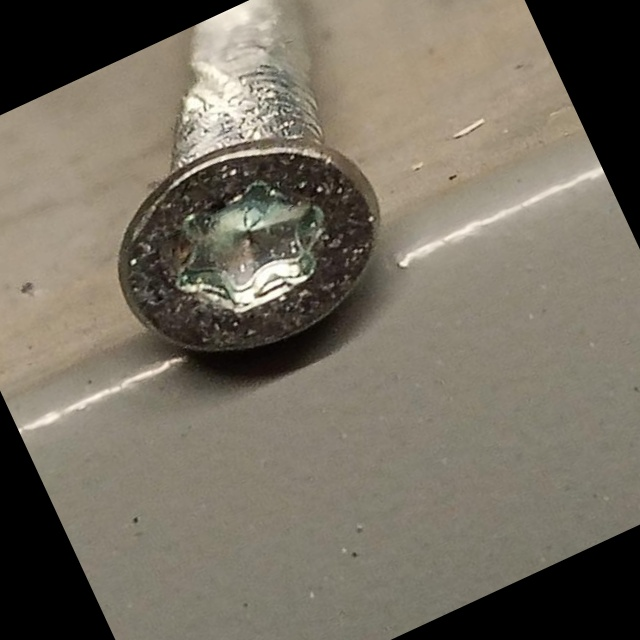torx: (85, 98, 419, 398)
